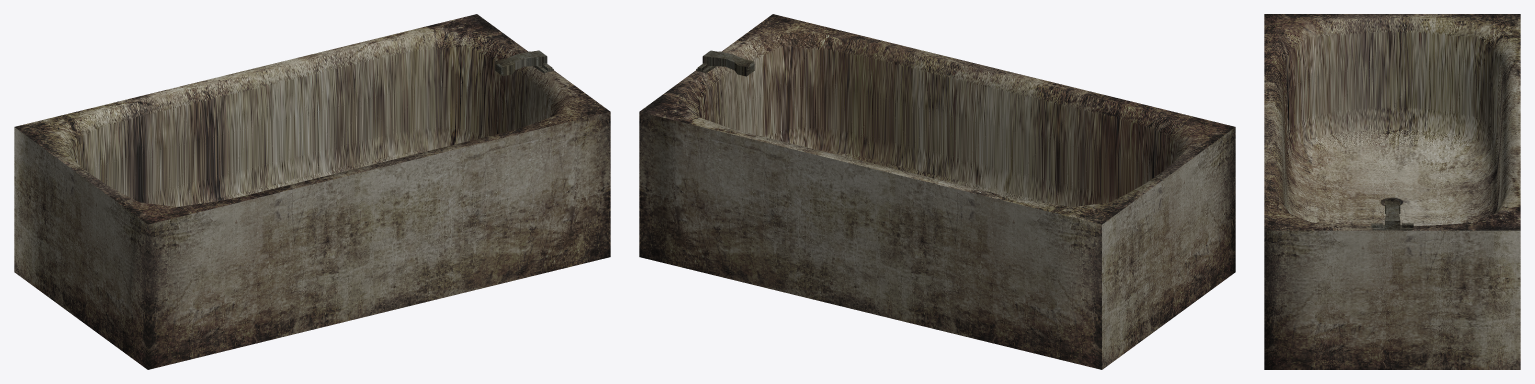
File: bathtub.obj
3 views of the same model, side by side, from view 1: azimuth 30°, elevation 25°; view 2: azimuth 150°, elevation 25°; view 3: azimuth 270°, elevation 25° (orthographic). The views are drawn at different scales.
Parts seen in each view (by area): view 1: polySurface2; view 2: polySurface2; view 3: polySurface2.
Boxes of the visible parts, box(x1,y1,x2,y2) form: polySurface2: box(14, 14, 610, 369); polySurface2: box(639, 14, 1235, 369); polySurface2: box(1264, 14, 1520, 369).
Bounding box in the file's own units: 10 × 3.25 × 5.
